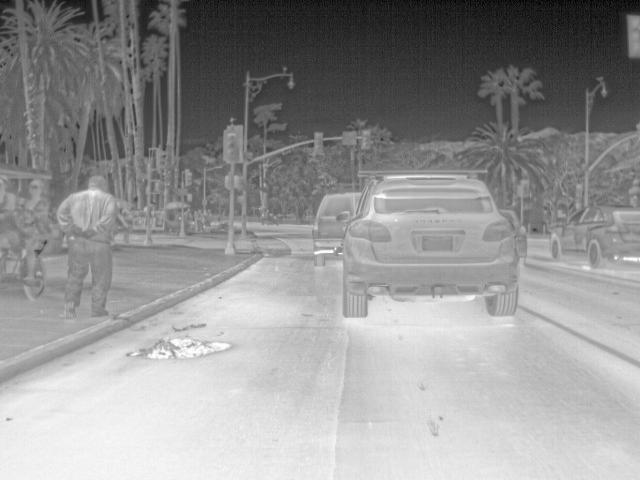car: (341, 163, 523, 317), (546, 201, 639, 270), (313, 191, 363, 268), (495, 205, 529, 261)
person: (50, 174, 117, 320), (17, 177, 50, 300), (2, 170, 23, 278), (195, 208, 208, 236)
